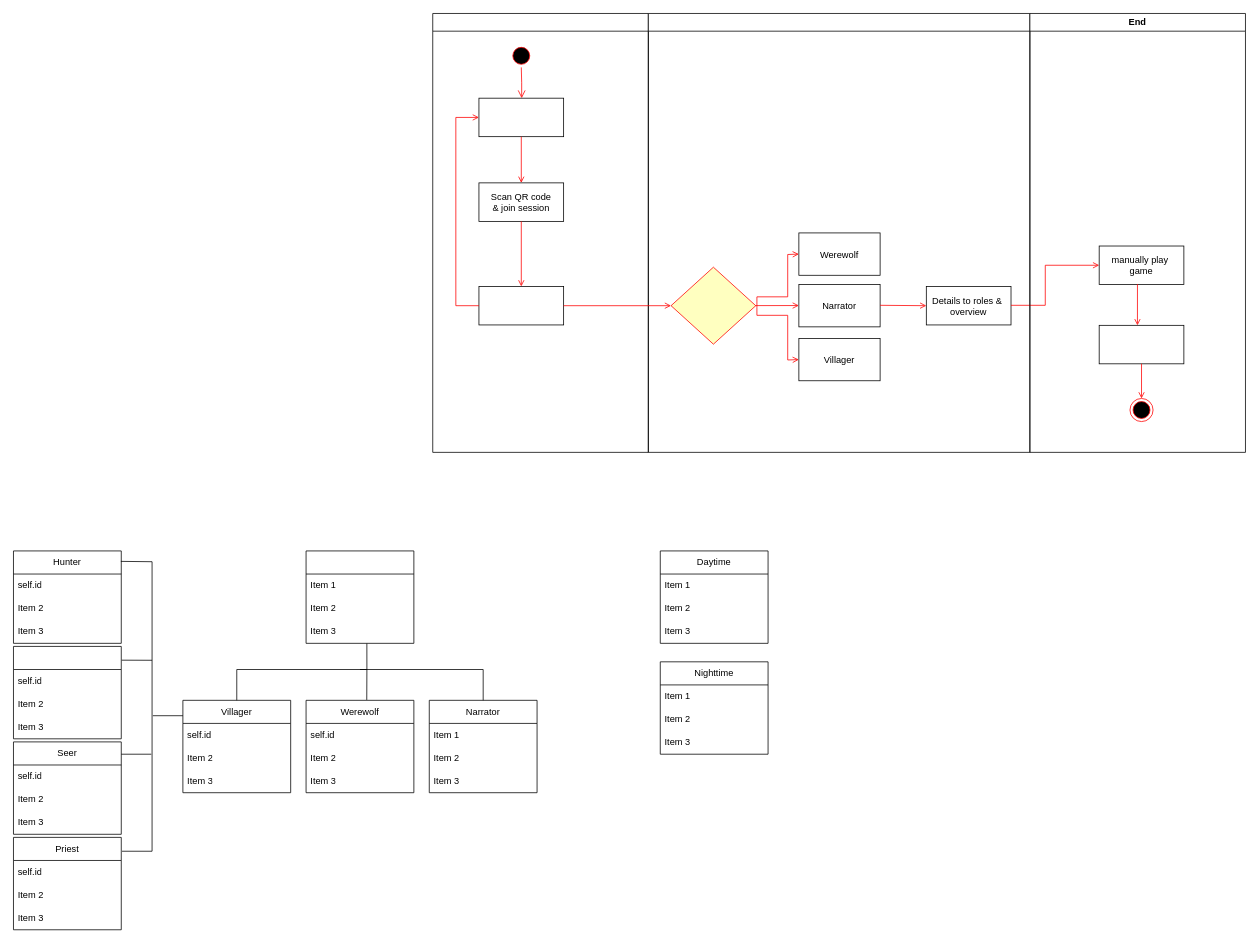
This 1259x943 diagram has some shape labels left out. Here are the shapes that lost their labels. From the top down, the box of each, then its label:
(478, 97, 564, 137): Start session
(432, 13, 648, 452): Create Session
(648, 13, 1030, 452): Get Started - Minimal Game Set
(478, 286, 564, 325): Game Start
(670, 266, 756, 344): random assign roles
(1098, 325, 1184, 364): end session
(305, 550, 414, 643): Player
(13, 646, 121, 739): Witch
